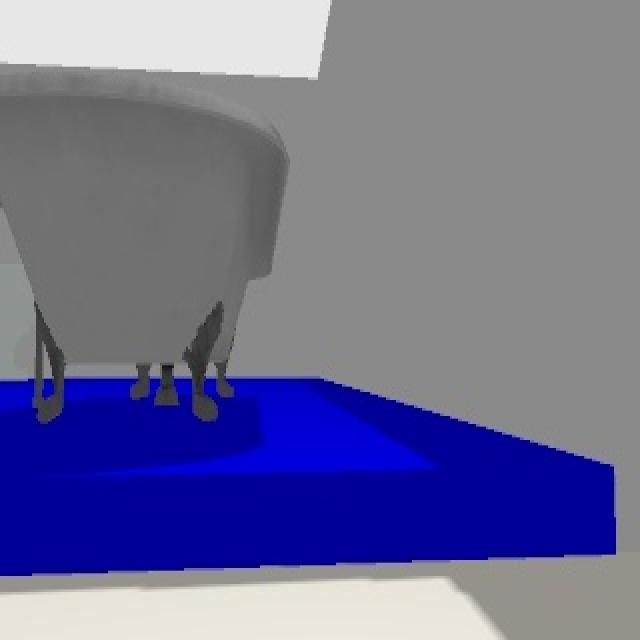bathtub: (0, 64, 277, 433)
